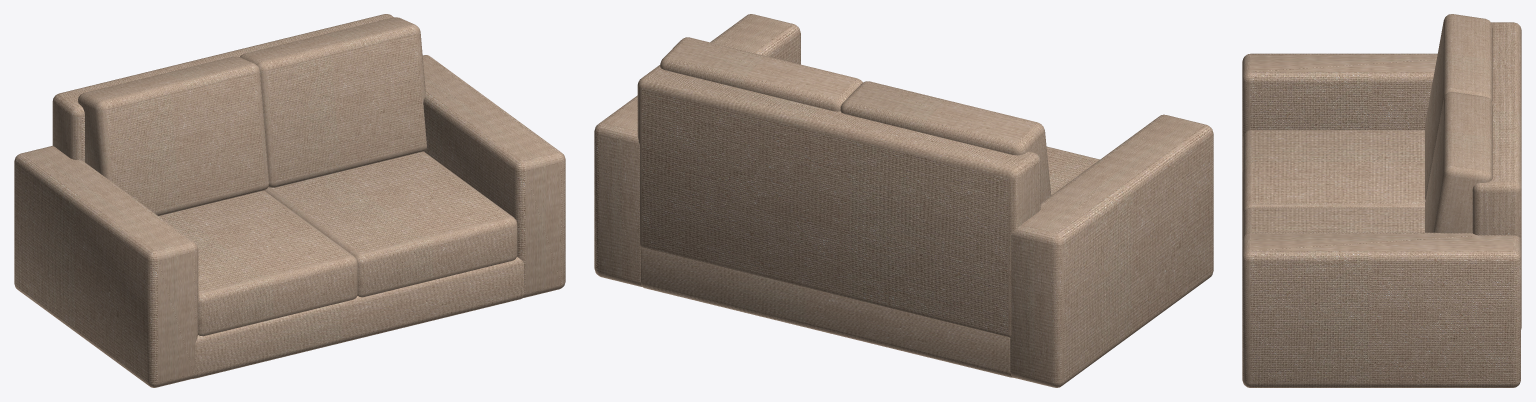
File: couch.glb
The picture shows the model from 3 angles, left to right: view 1: azimuth 30°, elevation 25°; view 2: azimuth 150°, elevation 25°; view 3: azimuth 270°, elevation 25°; orthographic projection. The views are drawn at different scales.
Parts seen in each view (by area): view 1: Object_2; view 2: Object_2; view 3: Object_2.
Part boxes in pixels (x1,y1,x2,y2): Object_2: [14, 14, 565, 387]; Object_2: [594, 14, 1213, 387]; Object_2: [1242, 14, 1521, 387].
Size of the model in its own units: 440 by 202 by 256.
Materials: 1 (1 with a texture image).
